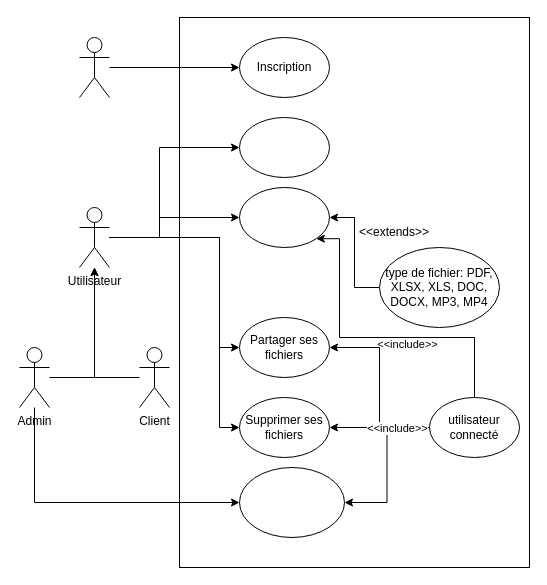
Some shapes in this 547 by 585 pixel diagram are drawn without their labels. The shapes that lost their labels are listed below. From the top down, each one's centre as x and y in pixels, then its label:
At (94,67): "Visiteur".
At (284,147): "connexion".
At (284,217): "création de fichier".
At (291,502): "Créer et supprimer d'autres utilisateurs".
